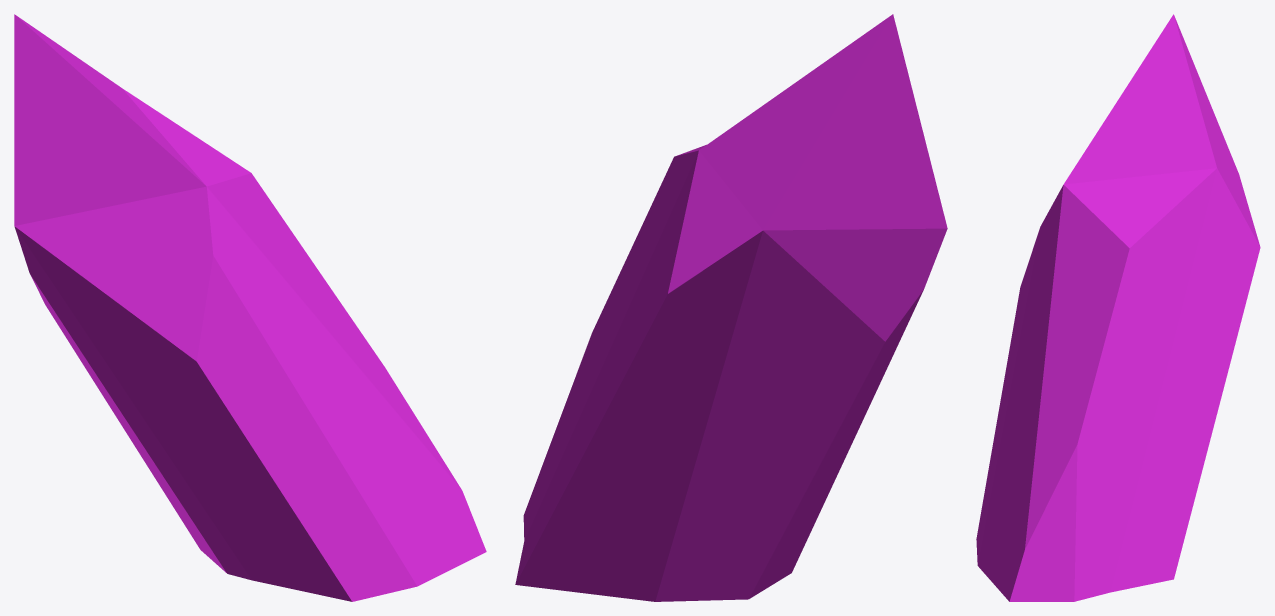
Rendered from Boss Crystal5.fbx.
3 renders of one model, left to right at view 1: azimuth 30°, elevation 25°; view 2: azimuth 150°, elevation 25°; view 3: azimuth 270°, elevation 25°, orthographic. The views are drawn at different scales.
Parts seen in each view (by area): view 1: boss crystal.005; view 2: boss crystal.005; view 3: boss crystal.005.
Boxes of the visible parts, left/top/right/bottom form: boss crystal.005: left=14, top=14, right=486, bottom=601; boss crystal.005: left=515, top=14, right=947, bottom=601; boss crystal.005: left=976, top=14, right=1260, bottom=601.
Size of the model in its own units: 1.18 by 1.58 by 0.9196.
